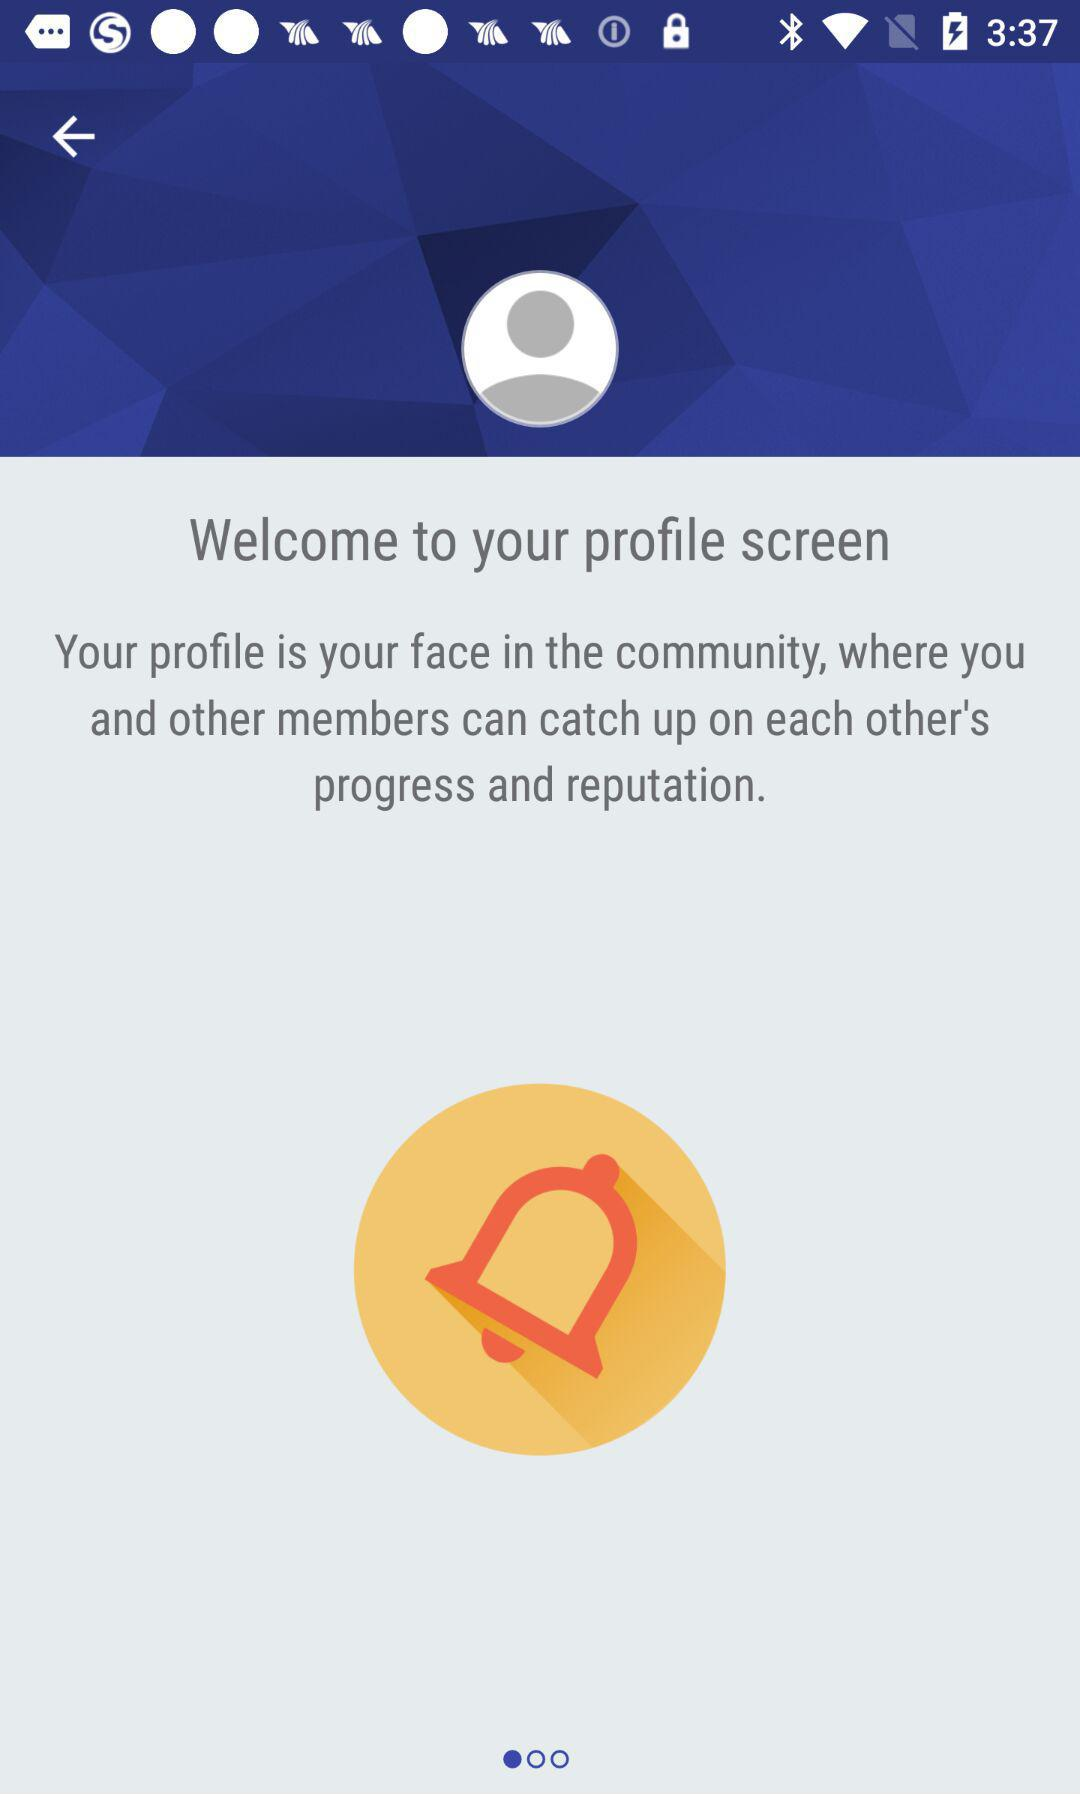Icon: (461, 270, 619, 428), (53, 117, 96, 159)
Image: (354, 1083, 726, 1457)
PageIndicator: (502, 1748, 571, 1771)
Text: (54, 632, 1025, 812), (190, 516, 889, 575)
UpperTaskBar: (1, 1, 1080, 64)
